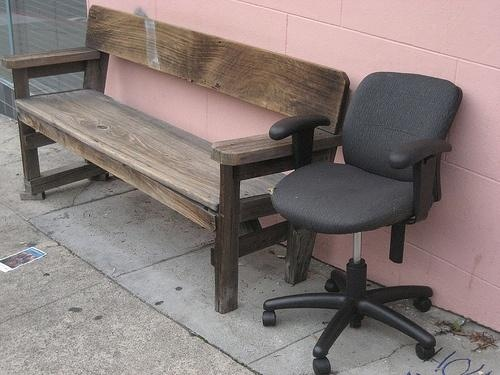chair: (259, 67, 471, 372)
